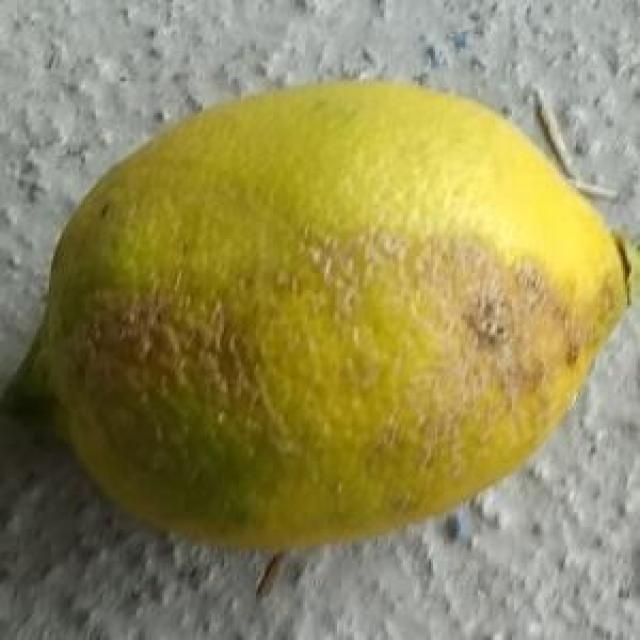lemon: (10, 71, 640, 554)
